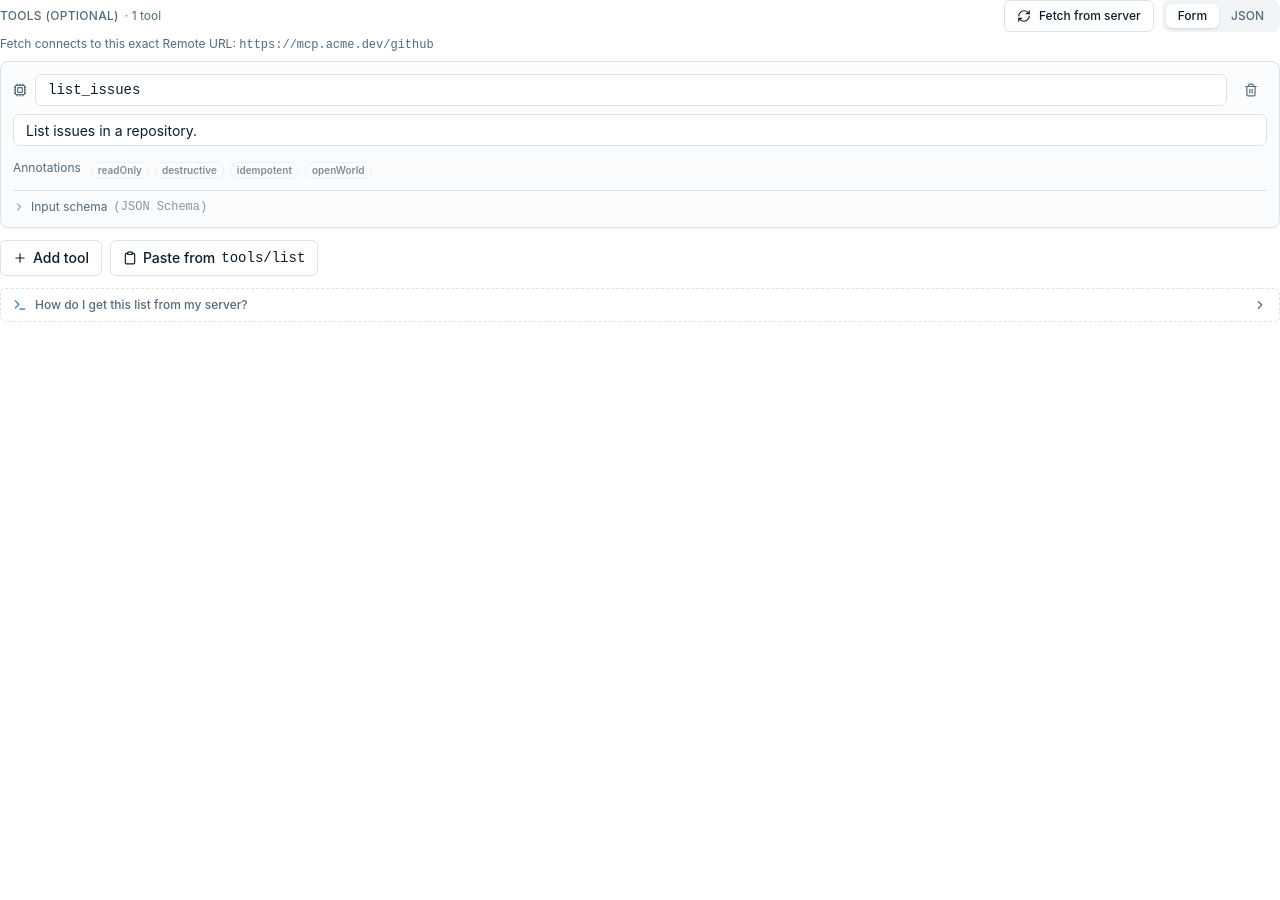
Test case: Fetch from server › explains a protected server and leaves the list alone
Click the button "Fetch from server" at x=1079, y=16, box [1004,0,1154,32]
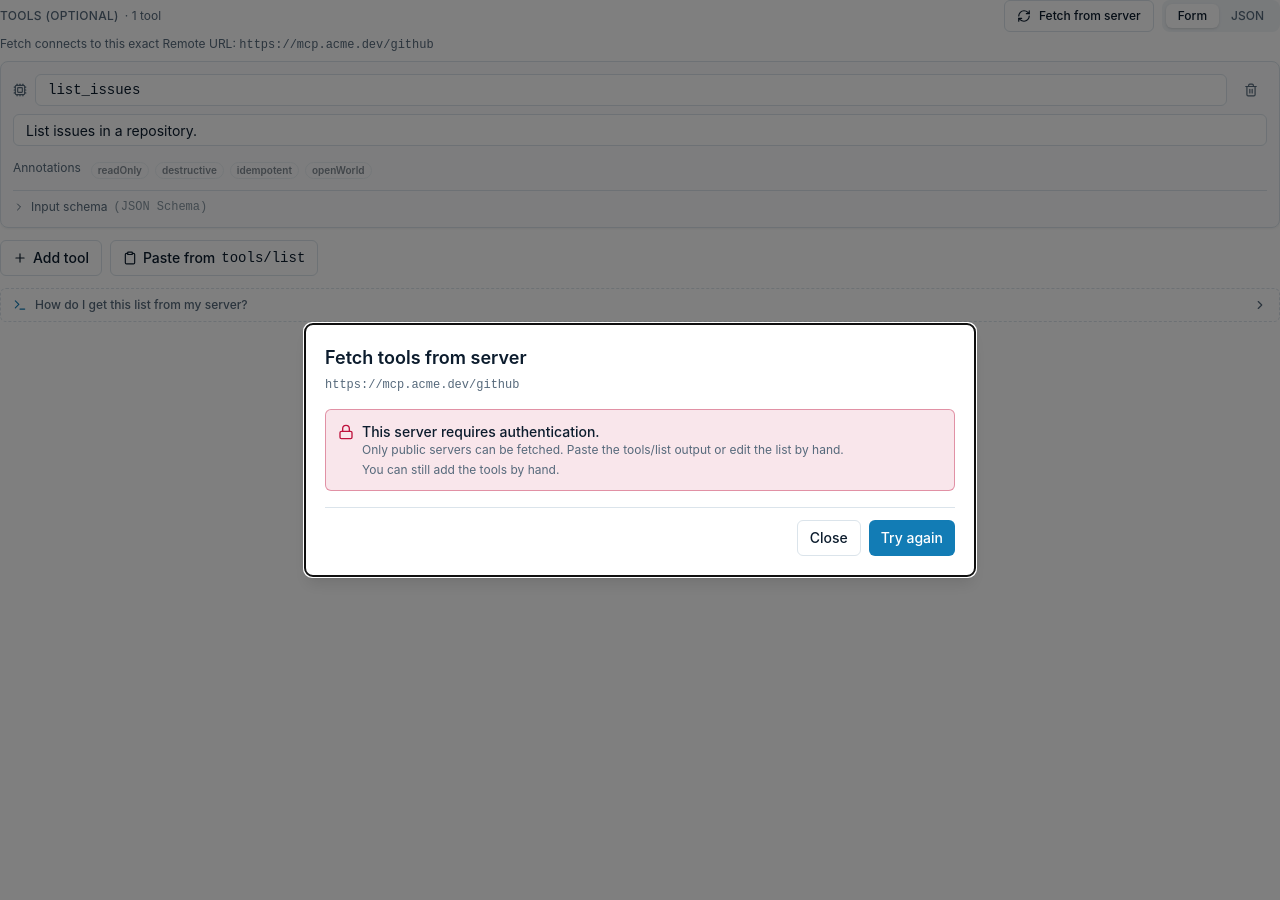
Result: the message shows "This server requires authentication." at [362,423,600,440]
Result: the message shows "Only public servers can be fetched." at [362,442,844,457]
